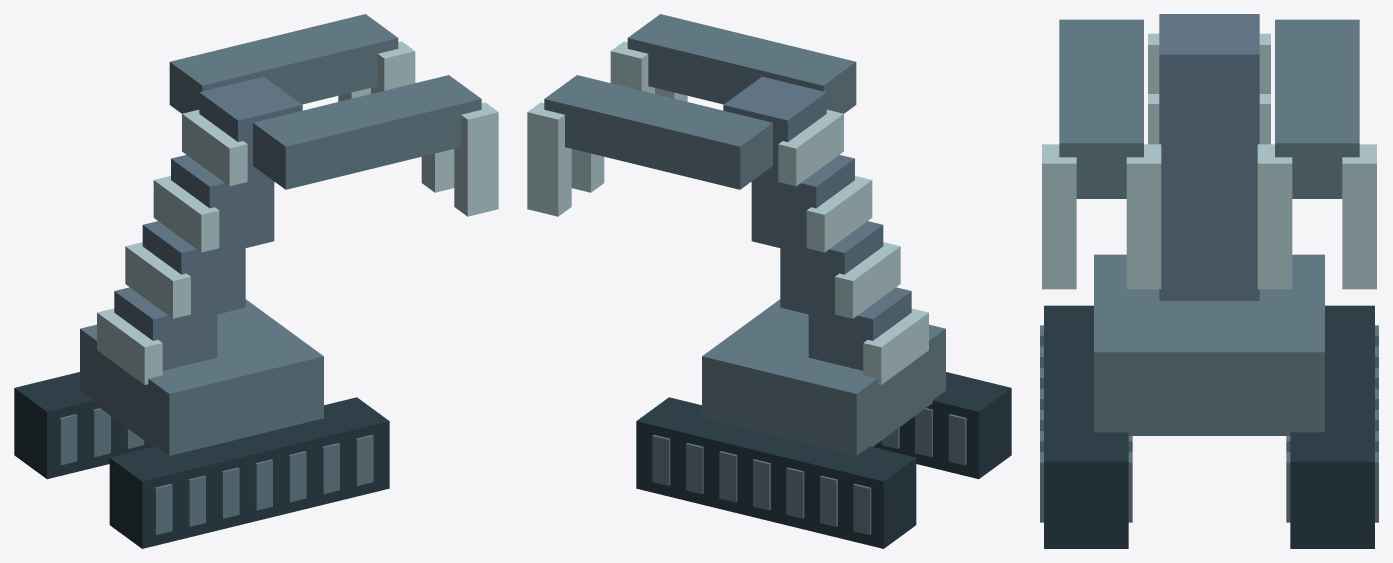
Rendered from repair-overseer.glb.
3 views of the same model, side by side, from view 1: azimuth 30°, elevation 25°; view 2: azimuth 150°, elevation 25°; view 3: azimuth 270°, elevation 25° (orthographic). The views are drawn at different scales.
Parts seen in each view (by area): view 1: CraneForearm, Tracks, Turntable, Boom, Hydraulics, TreadRibs, Clamp; view 2: CraneForearm, Tracks, Turntable, Boom, Hydraulics, TreadRibs, Clamp; view 3: Turntable, Tracks, Boom, CraneForearm, Clamp, Hydraulics, TreadRibs.
Boxes of the visible parts, bbox=[...] form: CraneForearm: bbox=[169, 14, 481, 189]; Tracks: bbox=[14, 372, 389, 548]; Turntable: bbox=[80, 299, 323, 455]; Boom: bbox=[114, 76, 302, 370]; Hydraulics: bbox=[97, 109, 247, 384]; TreadRibs: bbox=[59, 408, 373, 534]; Clamp: bbox=[338, 41, 498, 216]; CraneForearm: bbox=[544, 14, 856, 189]; Tracks: bbox=[636, 372, 1011, 548]; Turntable: bbox=[702, 299, 945, 455]; Boom: bbox=[723, 76, 911, 370]; Hydraulics: bbox=[778, 109, 928, 384]; TreadRibs: bbox=[652, 408, 966, 534]; Clamp: bbox=[527, 41, 687, 216]; Turntable: bbox=[1094, 254, 1324, 435]; Tracks: bbox=[1044, 305, 1374, 548]; Boom: bbox=[1159, 14, 1259, 300]; CraneForearm: bbox=[1059, 19, 1359, 198]; Clamp: bbox=[1042, 144, 1376, 289]; Hydraulics: bbox=[1148, 33, 1270, 144]; TreadRibs: bbox=[1040, 325, 1378, 522].
Size of the model in its own units: 6.9 by 6.7 by 4.4.
